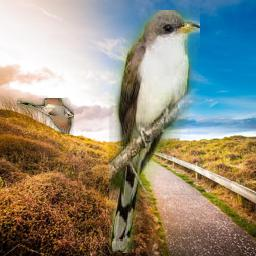Cuckoo: (110, 11, 201, 254), (18, 98, 75, 134)
